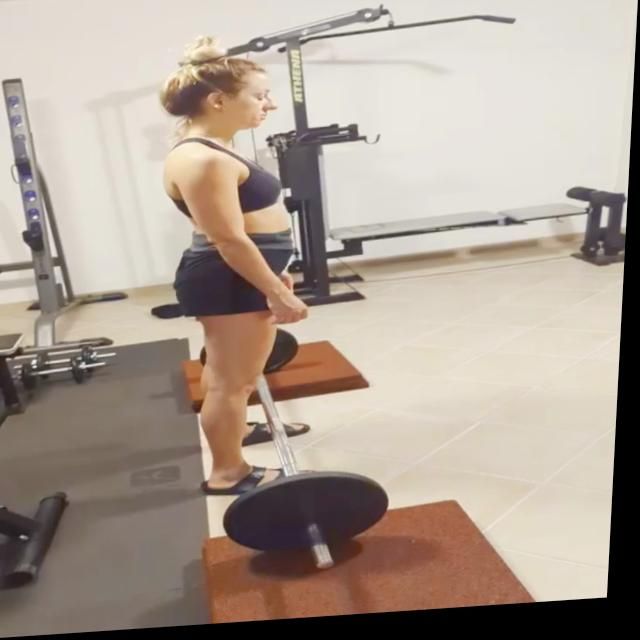barbell: (225, 468, 400, 587)
